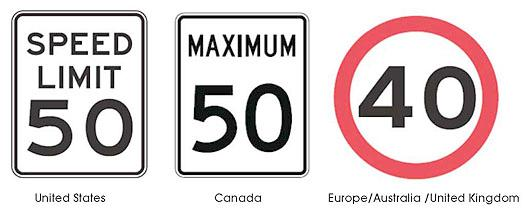speed limit sign: (10, 11, 149, 178), (173, 12, 310, 180)
